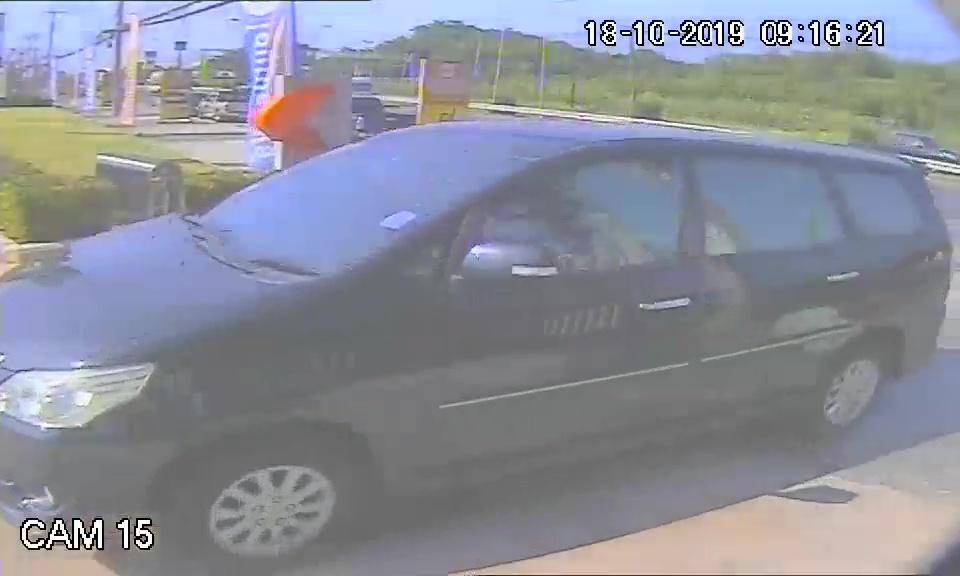van: (6, 110, 950, 530)
